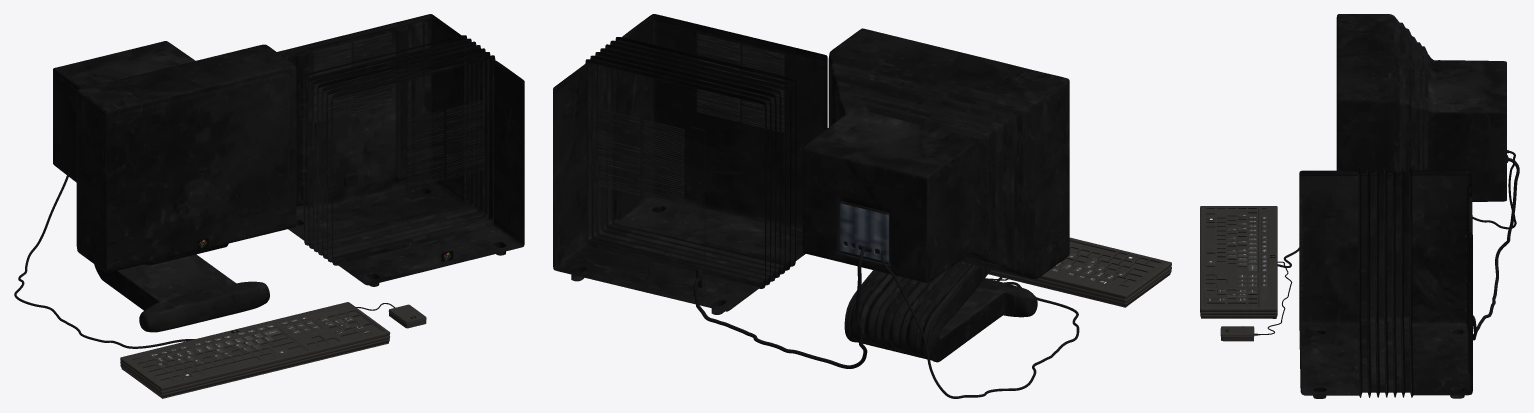
File: NeXT_Cube2.glb
3 renders of one model, left to right at view 1: azimuth 30°, elevation 25°; view 2: azimuth 150°, elevation 25°; view 3: azimuth 270°, elevation 25°, orthographic. The views are drawn at different scales.
Parts seen in each view (by area): view 1: computer, mouse, tasti, Catenary; view 2: computer, mouse, Catenary, monitor, tasti; view 3: computer, mouse, tasti, Catenary.
Boxes of the visible parts, <box> form: computer: <box>53,14,524,332</box>; mouse: <box>120,302,426,398</box>; tasti: <box>152,317,371,377</box>; Catenary: <box>14,175,394,348</box>; computer: <box>553,14,1069,362</box>; mouse: <box>988,237,1171,307</box>; Catenary: <box>693,245,1079,398</box>; monitor: <box>840,203,888,262</box>; tasti: <box>1050,252,1136,283</box>; computer: <box>1299,14,1506,398</box>; mouse: <box>1200,206,1277,341</box>; tasti: <box>1206,214,1266,301</box>; Catenary: <box>1254,150,1519,340</box>.
Size of the model in its own units: 0.8428 by 0.4338 by 0.591.
7 materials, 6 textured.
